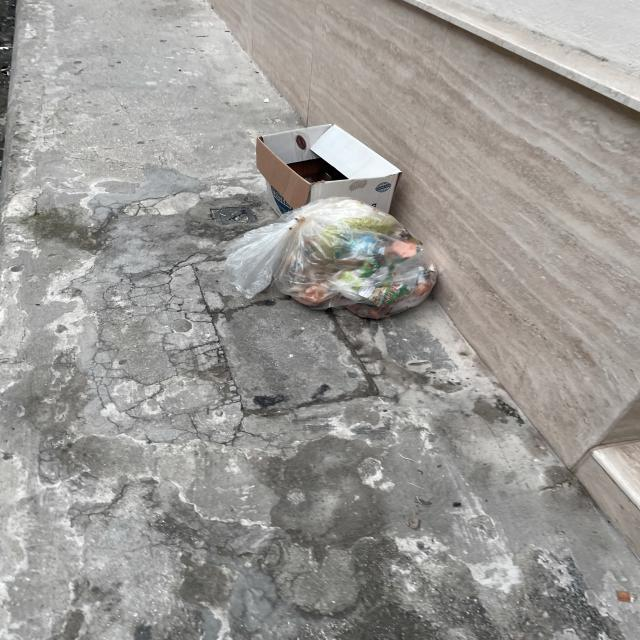other_waste: (248, 120, 418, 210)
white_bag: (230, 202, 438, 322)
